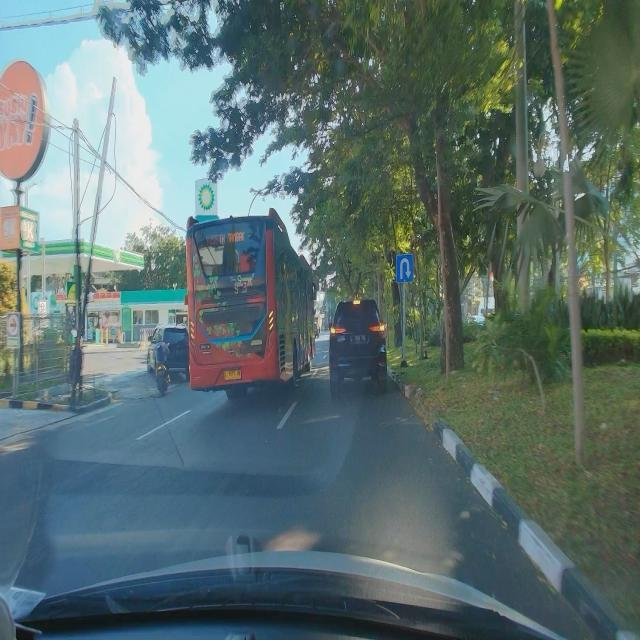bus: (184, 208, 317, 398)
car: (328, 298, 388, 394)
license-plate: (224, 369, 241, 381), (350, 334, 366, 345)
